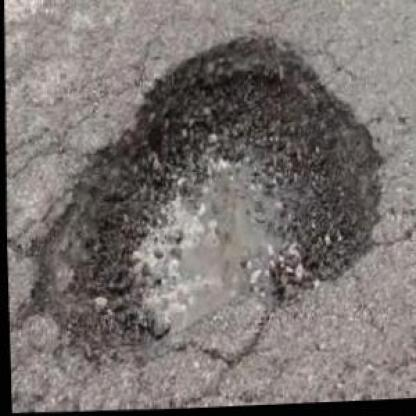pothole: (15, 20, 392, 378)
